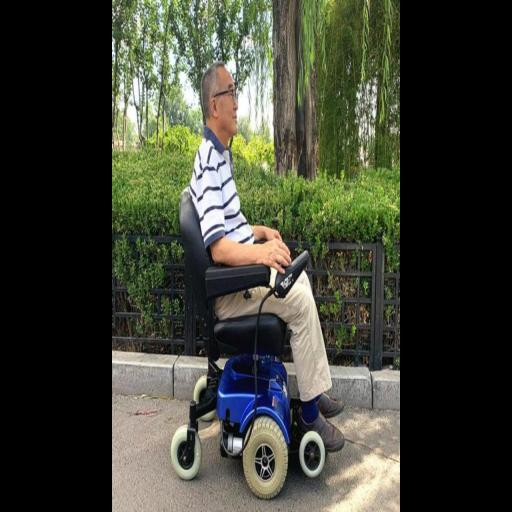cadeira_de_rodas: (168, 64, 330, 503)
